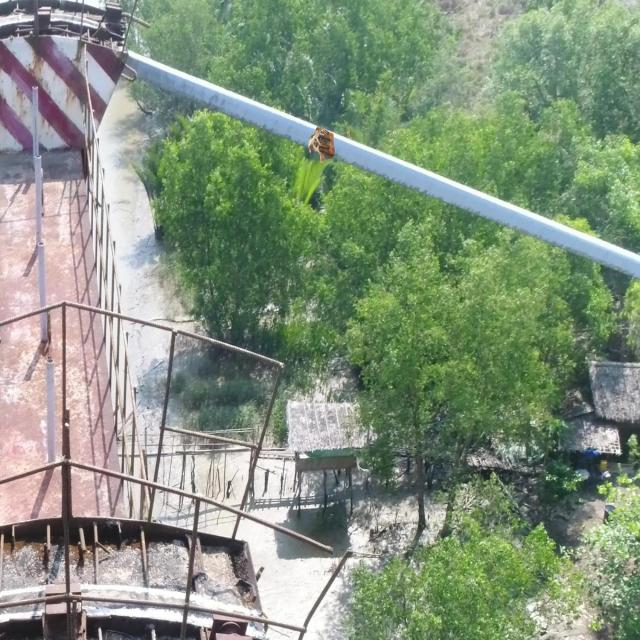corrosion: (308, 127, 338, 163)
